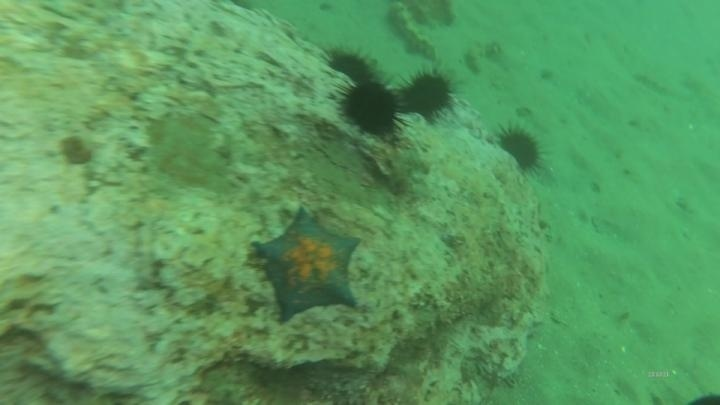echinus: (334, 76, 407, 140), (395, 66, 459, 123), (494, 122, 547, 175), (322, 45, 380, 85)
holothurian: (385, 2, 440, 62)
starfish: (248, 203, 365, 325)
